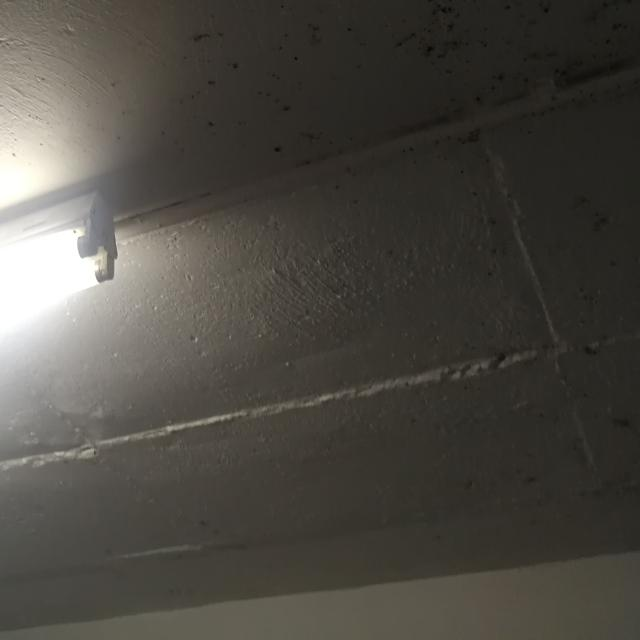fluorescent tube: (0, 162, 170, 453)
